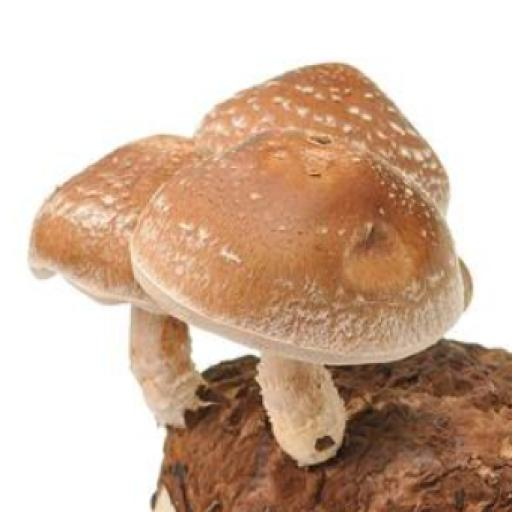Shiitake Mushroom: (26, 60, 473, 444)
